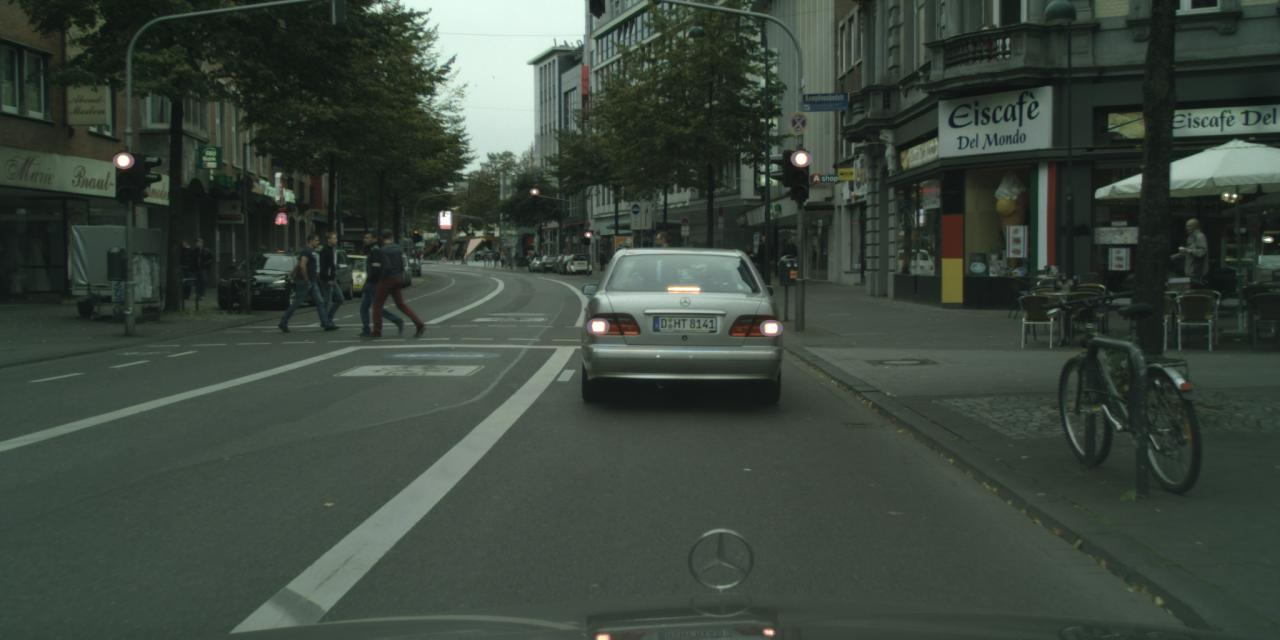ped: (370, 227, 414, 337), (355, 230, 398, 336), (641, 230, 683, 334), (1173, 218, 1213, 316), (289, 232, 329, 330), (310, 231, 348, 326), (187, 238, 212, 300), (169, 239, 194, 299), (753, 235, 774, 286), (280, 246, 298, 290), (251, 246, 269, 290), (739, 244, 757, 286), (268, 248, 284, 290), (782, 238, 797, 276), (354, 250, 367, 282), (343, 251, 355, 283), (597, 251, 605, 270), (459, 247, 465, 264), (486, 250, 492, 266), (494, 250, 499, 266), (532, 251, 537, 266), (499, 252, 504, 266), (527, 251, 532, 265)
